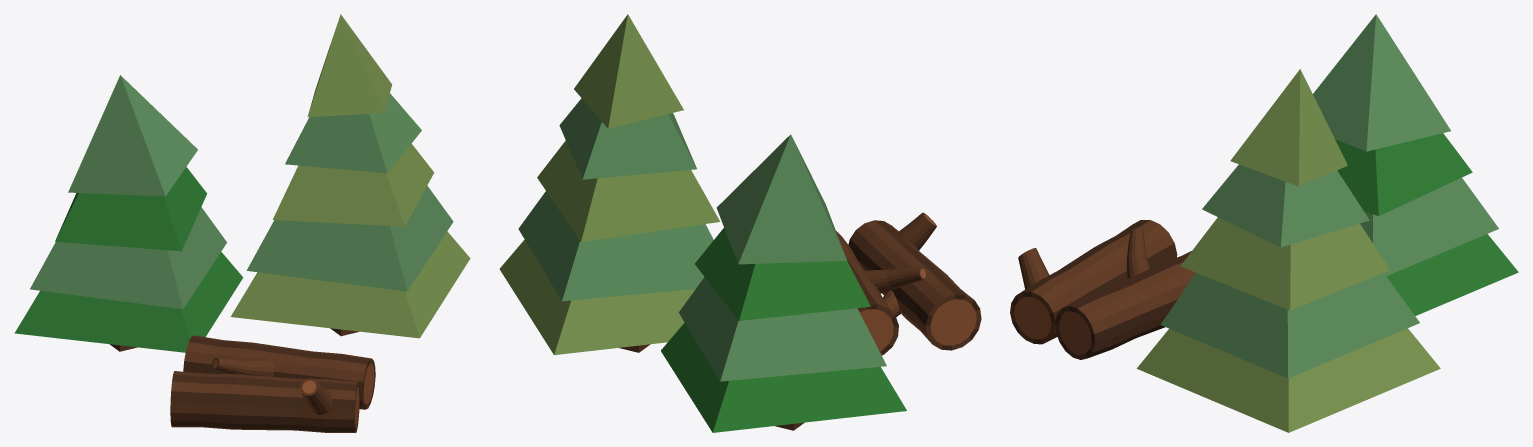
File: TreesMix.fbx
The picture shows the model from 3 angles, left to right: view 1: azimuth 30°, elevation 25°; view 2: azimuth 150°, elevation 25°; view 3: azimuth 270°, elevation 25°; orthographic projection. The views are drawn at different scales.
Visible parts, largest first — view 1: Cube.035; view 2: Cube.035; view 3: Cube.035.
Part boxes in pixels (x1,y1,x2,y2): Cube.035: (15,14,470,432); Cube.035: (499,14,981,432); Cube.035: (1010,14,1518,432).
Size of the model in its own units: 240 by 167 by 231.
